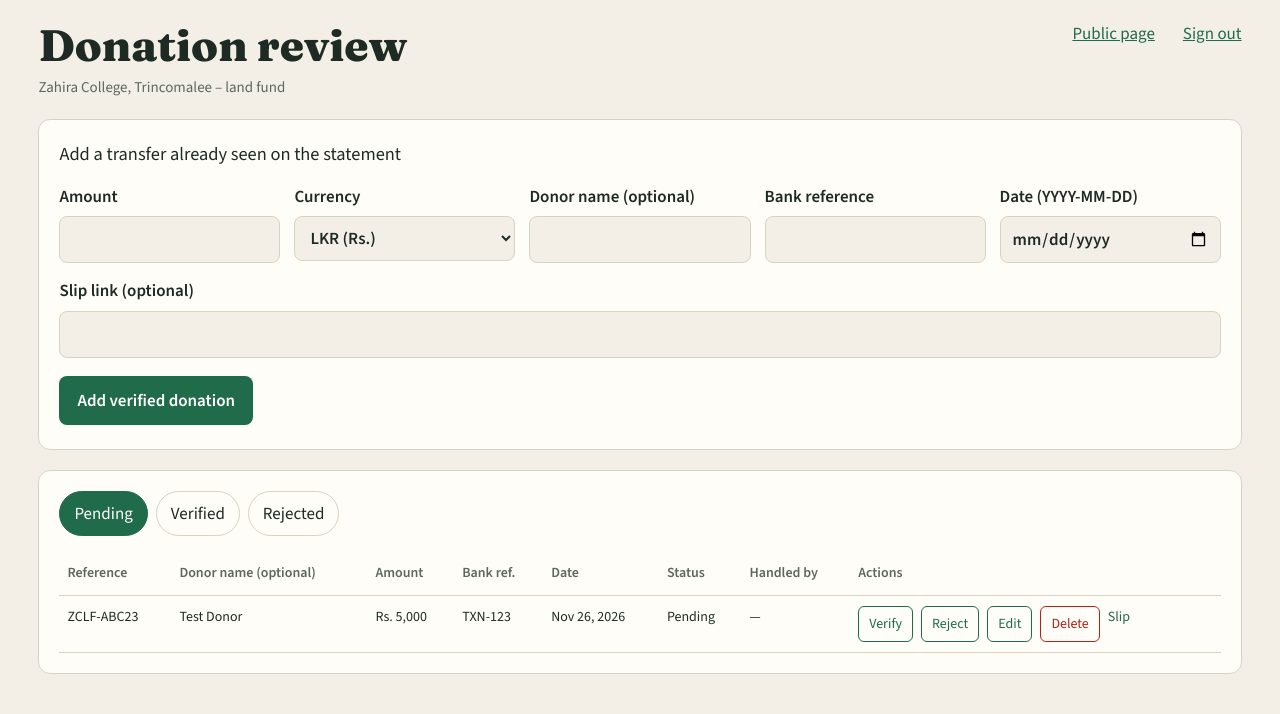
Test: AdminApp › adds a verified transfer in a foreign currency
Later steps or results of the test are not shown.
In the field labelled "Amount": (170, 240) [59,216,280,263], type "10"
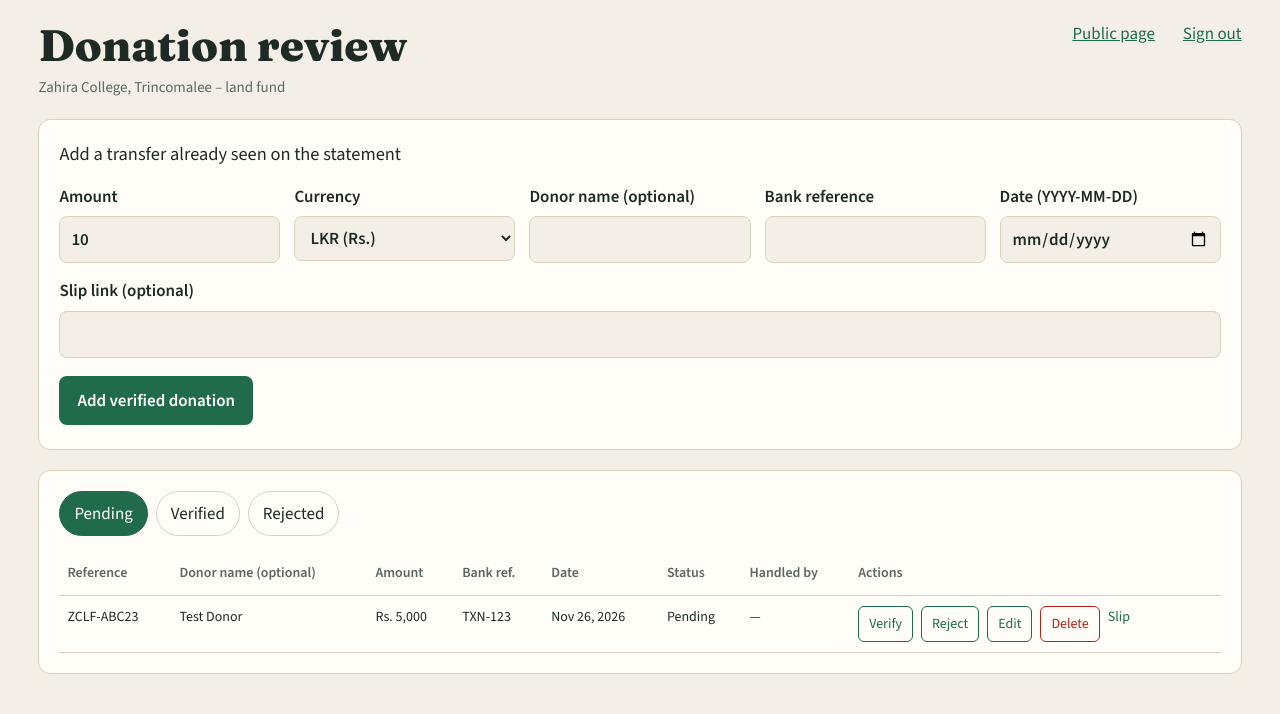
Select "USD ($)" in the dropdown labelled "Currency": (405, 239) [294,216,515,261]
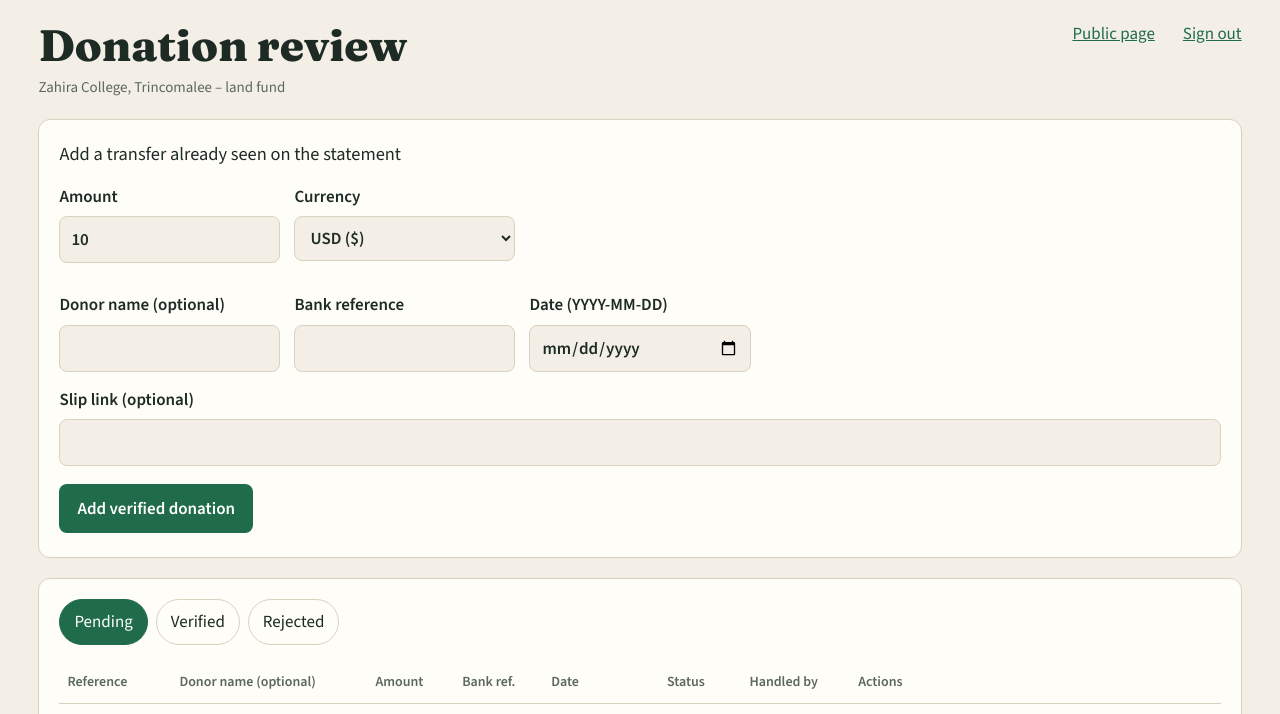
In the field labelled "Bank reference": (405, 348) [294,325,515,372], type "TXN-FX"
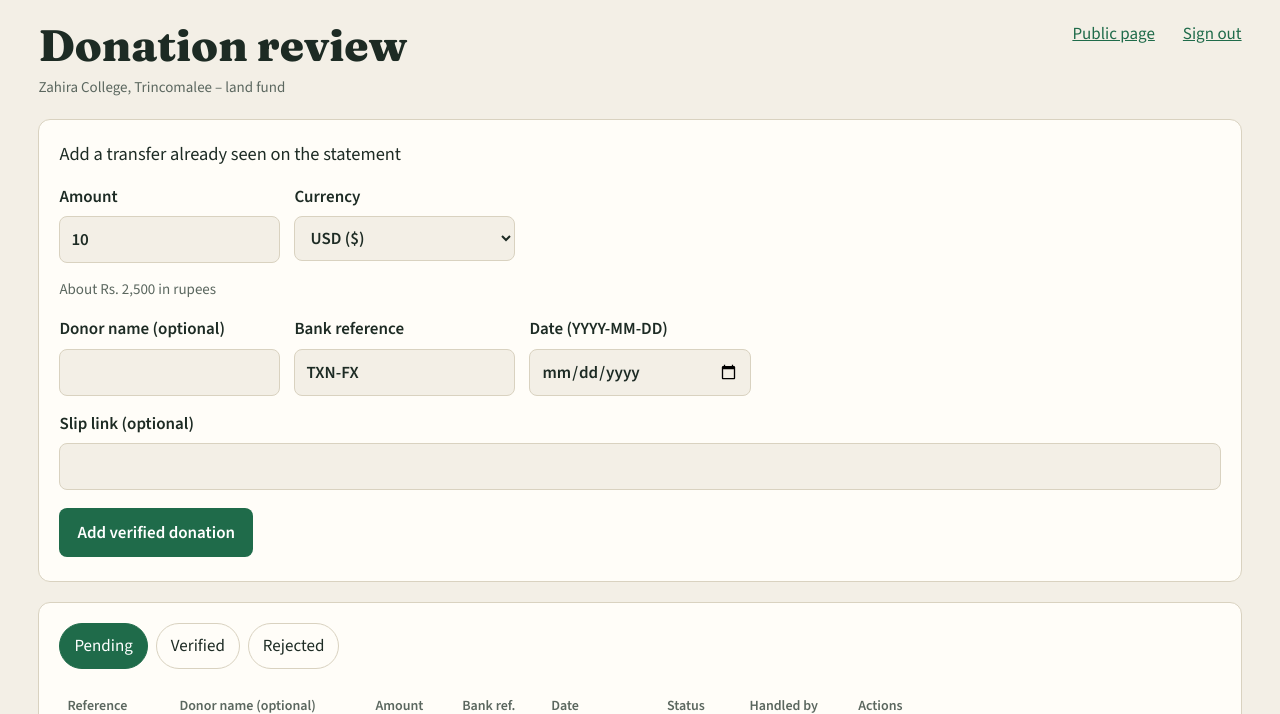
Now the text "About Rs. 2,500 in rupees" is shown, box [59,279,216,299]
